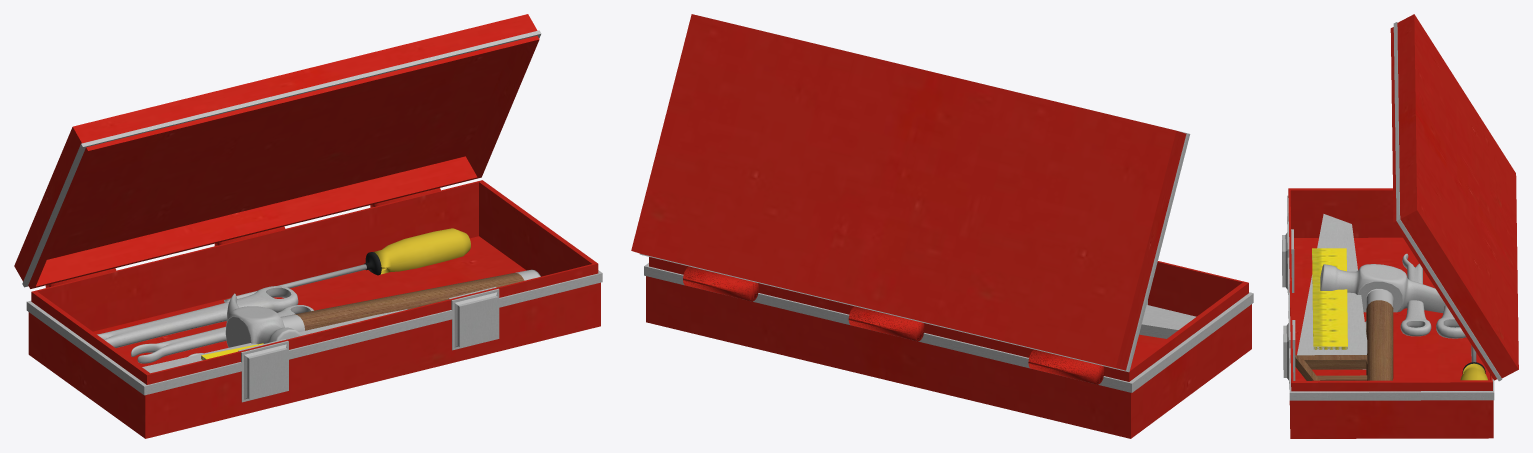
File: toolbox.glb
3 renders of one model, left to right at view 1: azimuth 30°, elevation 25°; view 2: azimuth 150°, elevation 25°; view 3: azimuth 270°, elevation 25°, orthographic. The views are drawn at different scales.
Parts seen in each view (by area): view 1: Object_2, Object_3, Object_5, Object_4, Object_14, Object_13, Object_6, Object_9, Object_15, Object_8; view 2: Object_2, Object_3, Object_15, Object_9; view 3: Object_2, Object_3, Object_13, Object_9, Object_12, Object_14, Object_5, Object_10, Object_4, Object_6.
Boxes of the visible parts, x1,y1,x2,y2 form: Object_2: (14,14,600,438); Object_3: (22,30,602,395); Object_5: (97,286,313,363); Object_4: (238,287,499,402); Object_14: (294,273,524,330); Object_13: (225,269,540,347); Object_6: (373,228,470,274); Object_9: (142,309,407,373); Object_15: (45,188,440,287); Object_8: (224,264,366,302); Object_2: (631,14,1251,438); Object_3: (640,131,1253,392); Object_15: (683,266,1104,384); Object_9: (1139,305,1196,338); Object_2: (1288,14,1518,438); Object_3: (1287,22,1502,400); Object_13: (1320,264,1445,312); Object_9: (1297,214,1367,369); Object_12: (1312,248,1347,346); Object_14: (1366,300,1393,380); Object_5: (1365,253,1466,338); Object_10: (1295,355,1367,380); Object_4: (1282,229,1295,383); Object_6: (1460,363,1487,380).
Bounding box in the file's own units: 7.18 × 3.95 × 3.63.
14 materials, 14 textured.
